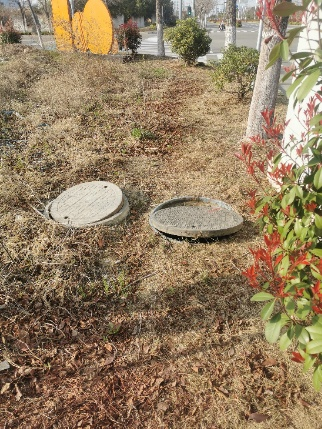uncovered: (148, 195, 244, 241), (44, 180, 130, 227)
